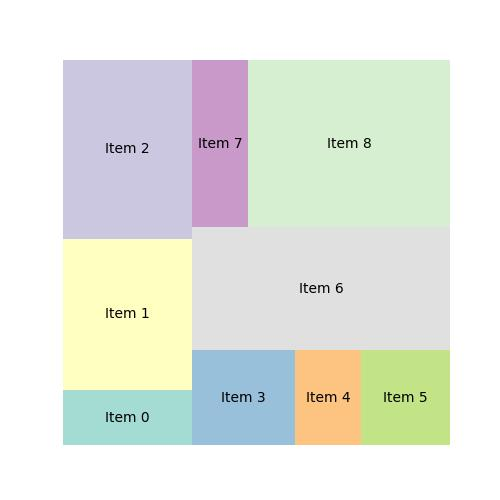rectangle: (247, 59, 450, 226), (191, 227, 449, 351), (62, 59, 192, 238), (61, 239, 191, 388), (190, 352, 296, 445), (190, 59, 248, 227), (359, 355, 451, 444), (62, 390, 191, 447), (296, 354, 359, 444)
